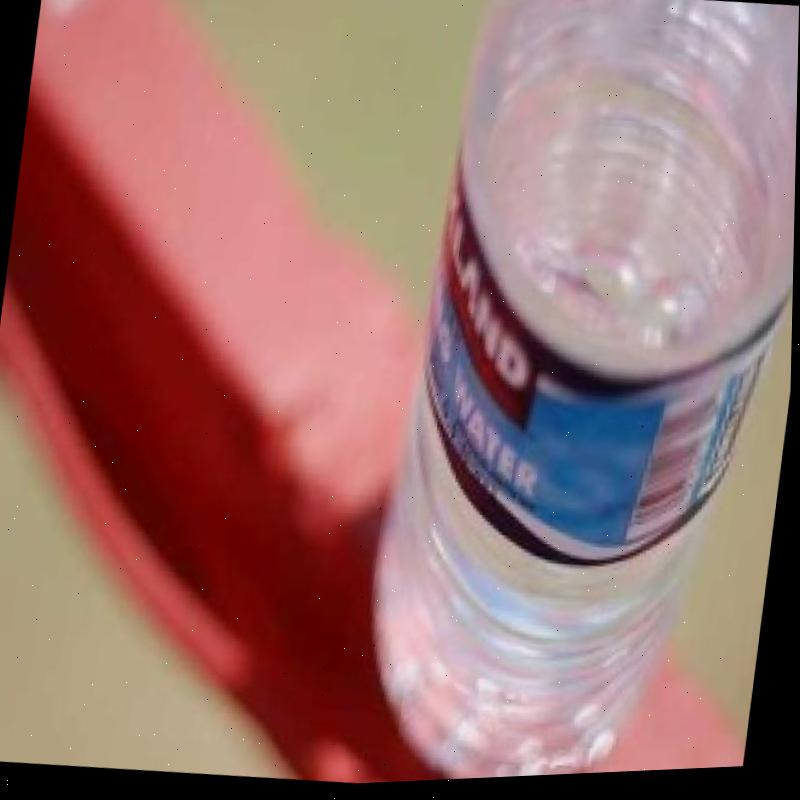botella: (346, 0, 800, 787)
